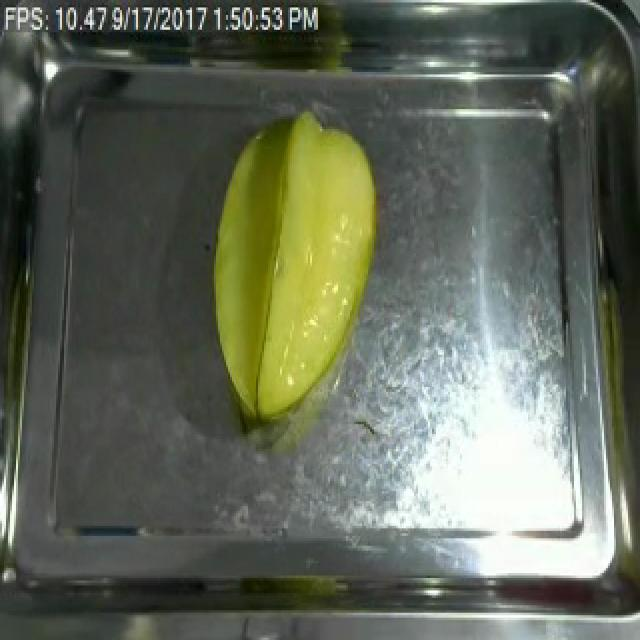fruit: (198, 99, 392, 437)
